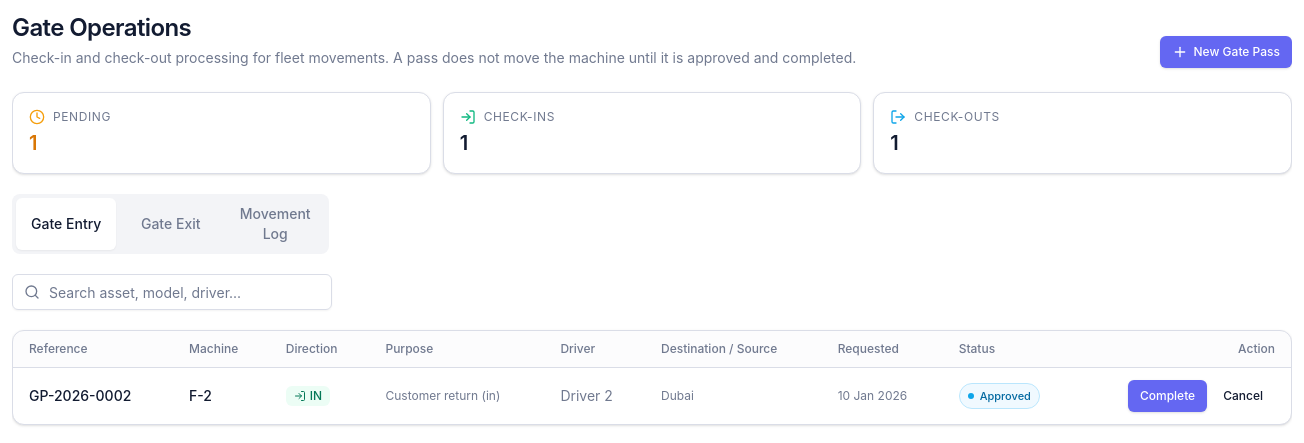
Test: Gate page (API) › lists the passes read from the API on the Gate Exit and Gate Entry tabs
Expected: the text "GP-2026-0002" is shown, [13, 368, 173, 424]
Expected: the text "GP-2026-0001" is not shown
Click the button "Gate Exit" at (171, 224), box [120, 198, 221, 250]
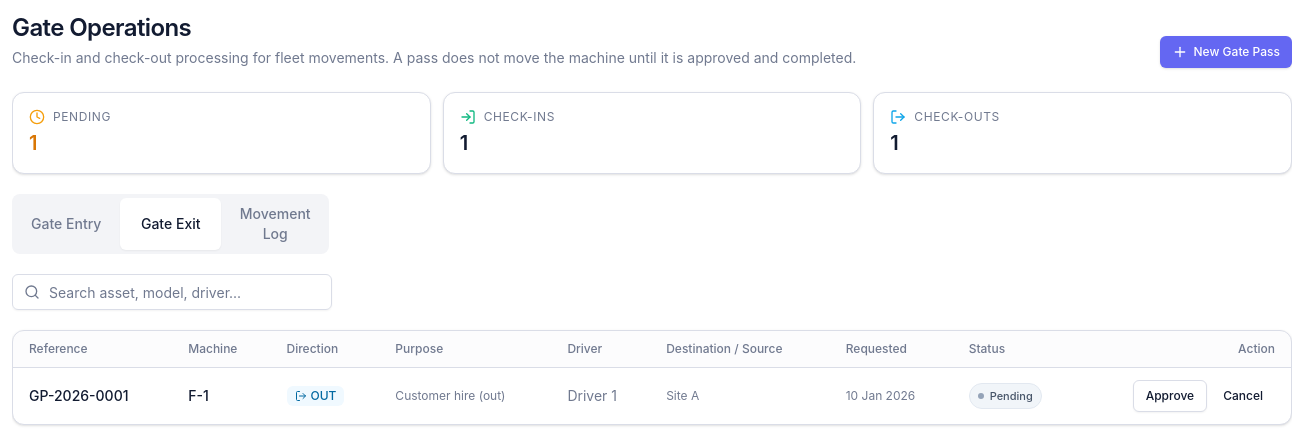
Expected: the text "GP-2026-0001" is shown, [13, 368, 172, 424]
Expected: the text "GP-2026-0002" is gone
